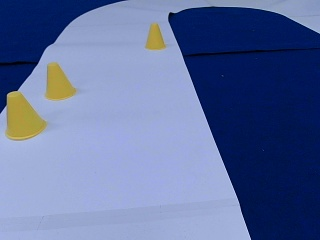cone: (5, 92, 47, 138), (43, 62, 76, 99), (145, 23, 164, 50)
